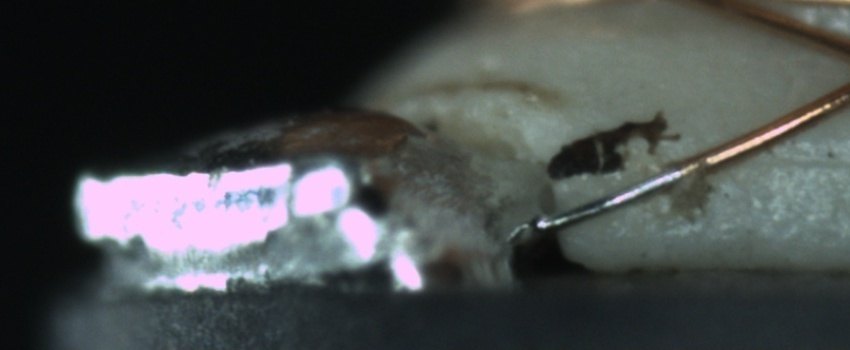DL: (758, 123, 850, 191)
TS: (526, 162, 689, 235)
